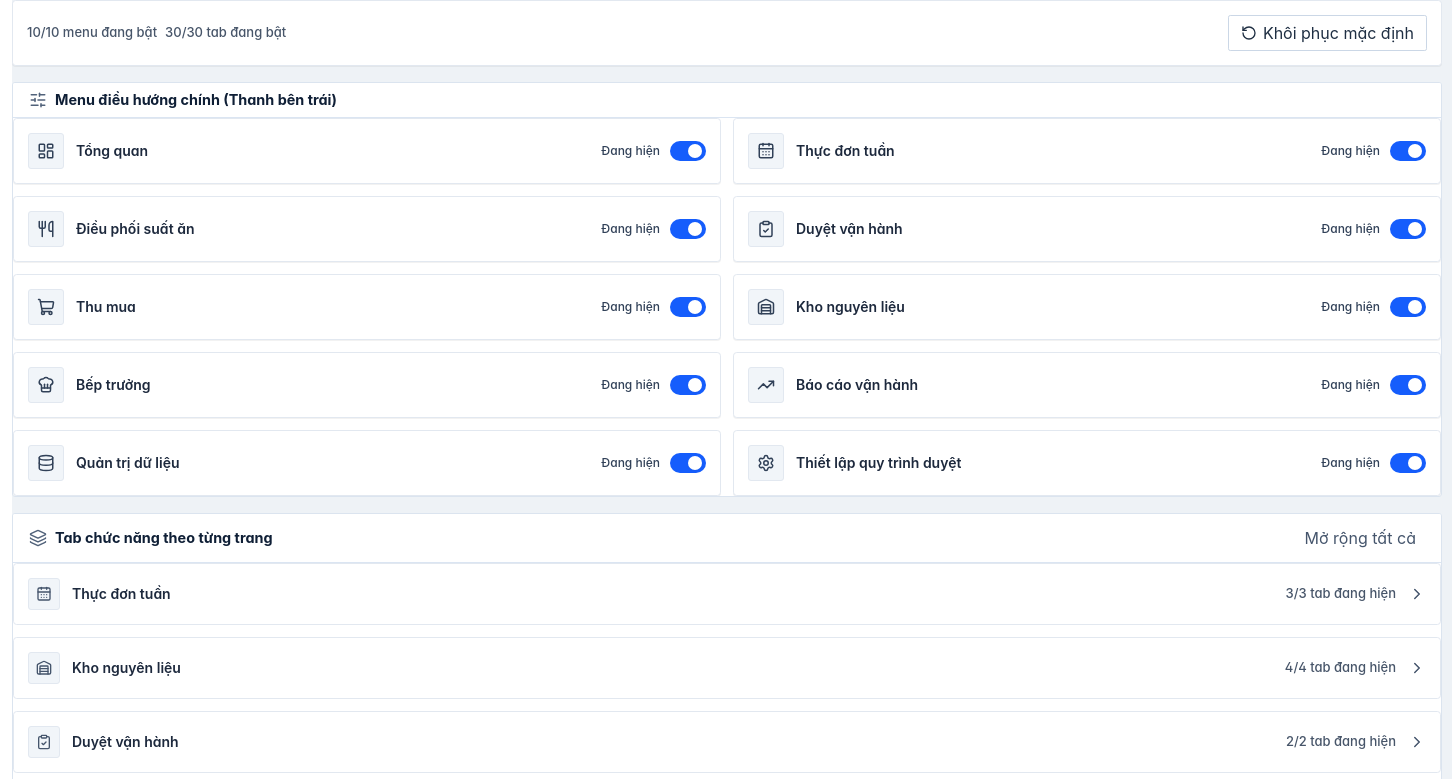
Test: AdvancedDisplaySettings Component › allows expanding all and collapsing all tab groups
The image size is (1452, 779).
Step 1. Click the button "Mở rộng tất cả" → (1360, 538), box [1296,522,1425,554]
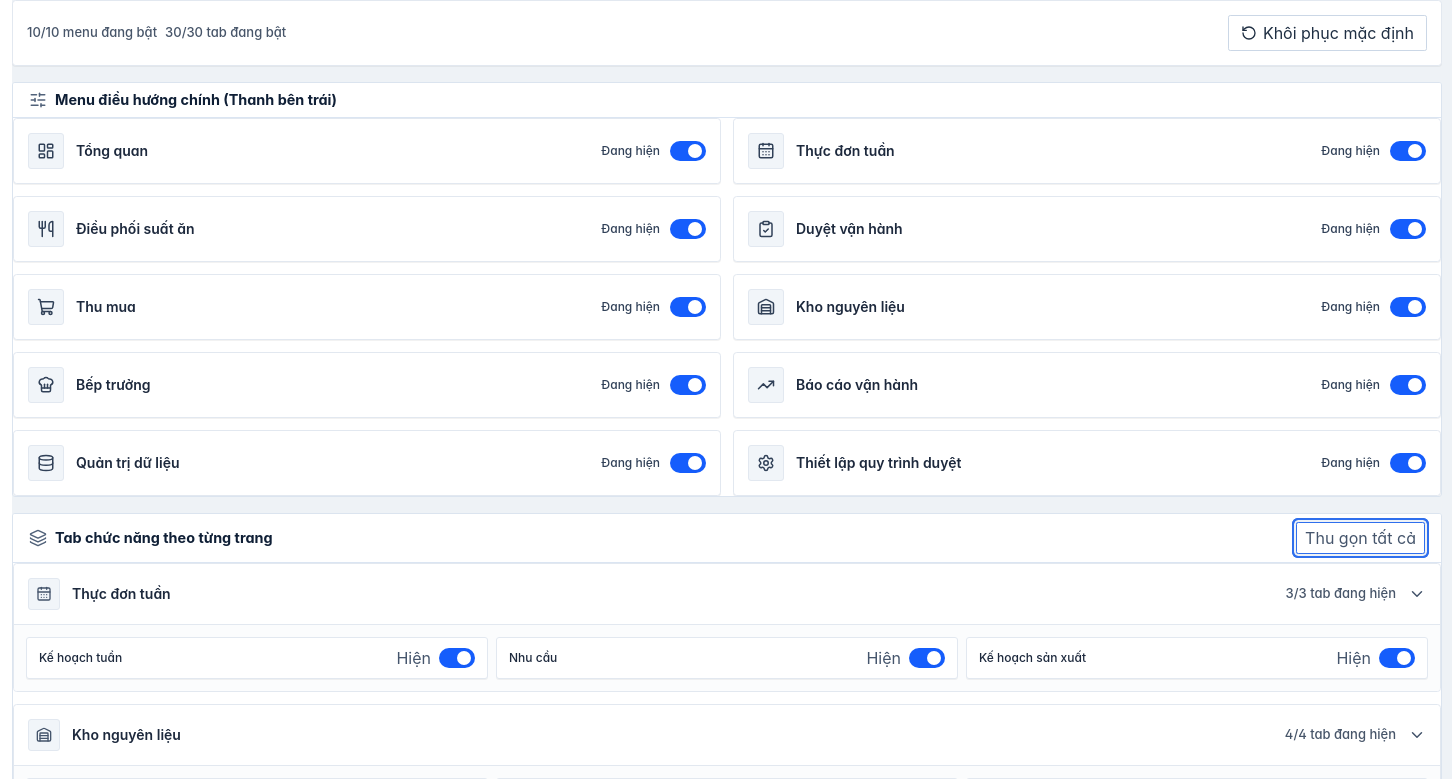
Expected: the text "Kế hoạch tuần" is shown, [39,650,122,666]
Expected: the button "Thu gọn tất cả" is shown
Step 2. Click the button "Thu gọn tất cả" → (1361, 538), box [1296,522,1425,554]
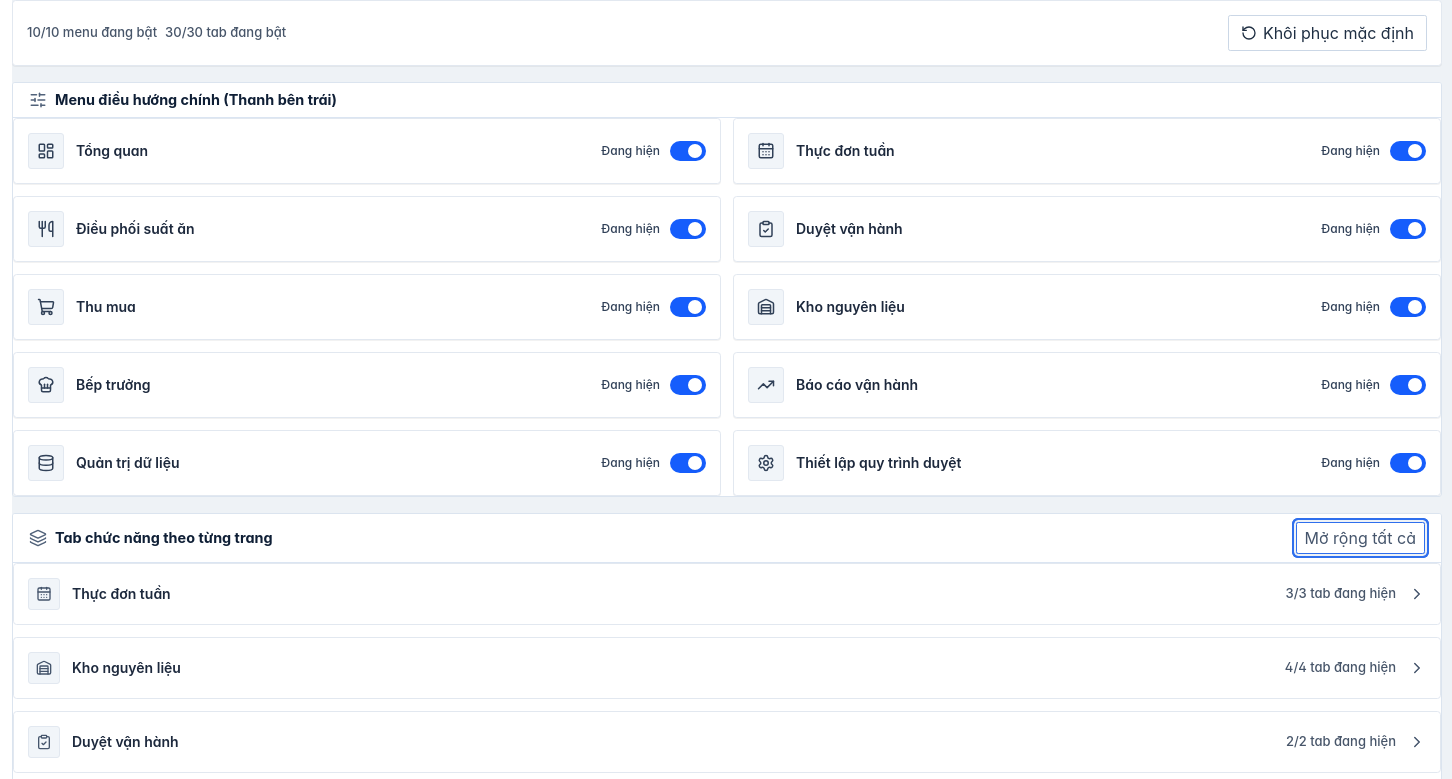
Expected: the switch "Kế hoạch tuần" is gone
